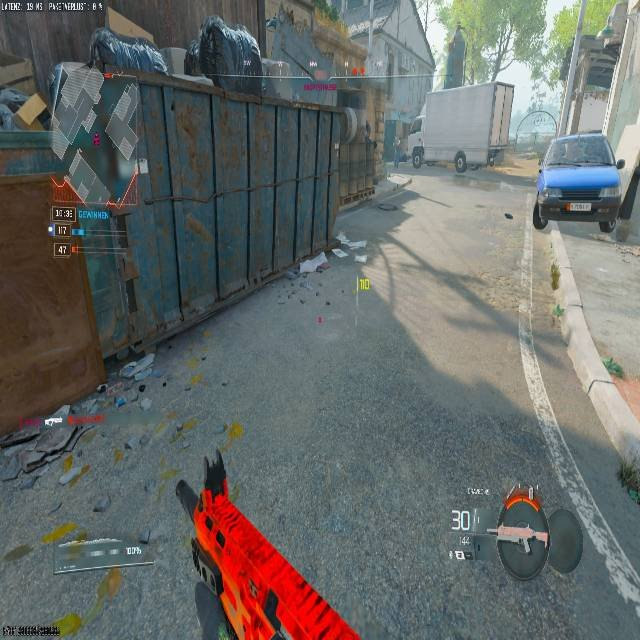player: (409, 135, 426, 170), (453, 149, 467, 177), (412, 146, 422, 168)
